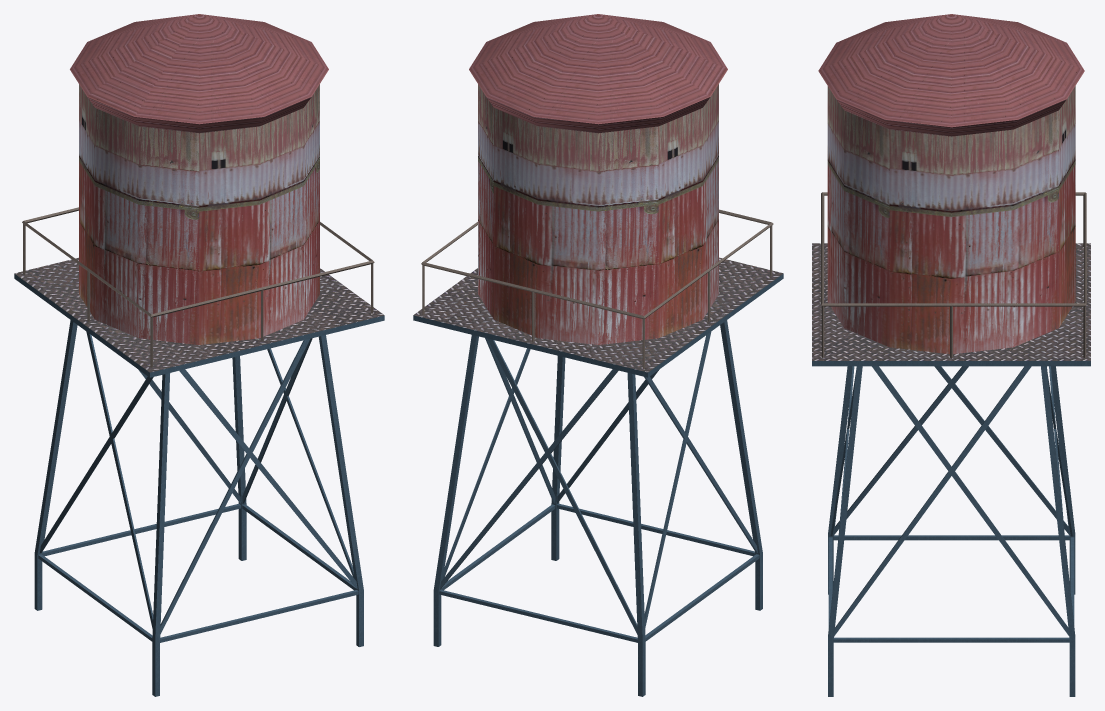
File: TowerWateMetall02.FBX
3 renders of one model, left to right at view 1: azimuth 30°, elevation 25°; view 2: azimuth 150°, elevation 25°; view 3: azimuth 270°, elevation 25°, orthographic. The views are drawn at different scales.
Visible parts, largest first — view 1: TowerWateMetall02; view 2: TowerWateMetall02; view 3: TowerWateMetall02.
Part boxes in pixels (x1,y1,x2,y2): TowerWateMetall02: (14, 14, 384, 696); TowerWateMetall02: (413, 14, 783, 696); TowerWateMetall02: (812, 14, 1090, 696).
Size of the model in its own units: 183 by 457 by 183.
